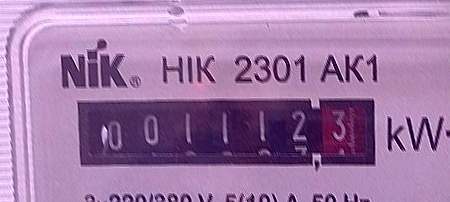0: (140, 110, 162, 148), (103, 116, 126, 151)
1: (179, 108, 198, 146), (217, 108, 232, 146), (255, 106, 270, 144)
2: (288, 107, 311, 144)
3: (329, 107, 348, 143)
screen: (69, 88, 384, 176)
